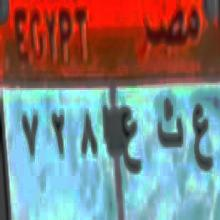2: (50, 106, 67, 161)
7: (20, 104, 40, 160)
8: (80, 106, 96, 161)
ain: (191, 86, 213, 182), (118, 106, 143, 174)
thaa: (158, 90, 183, 159)
